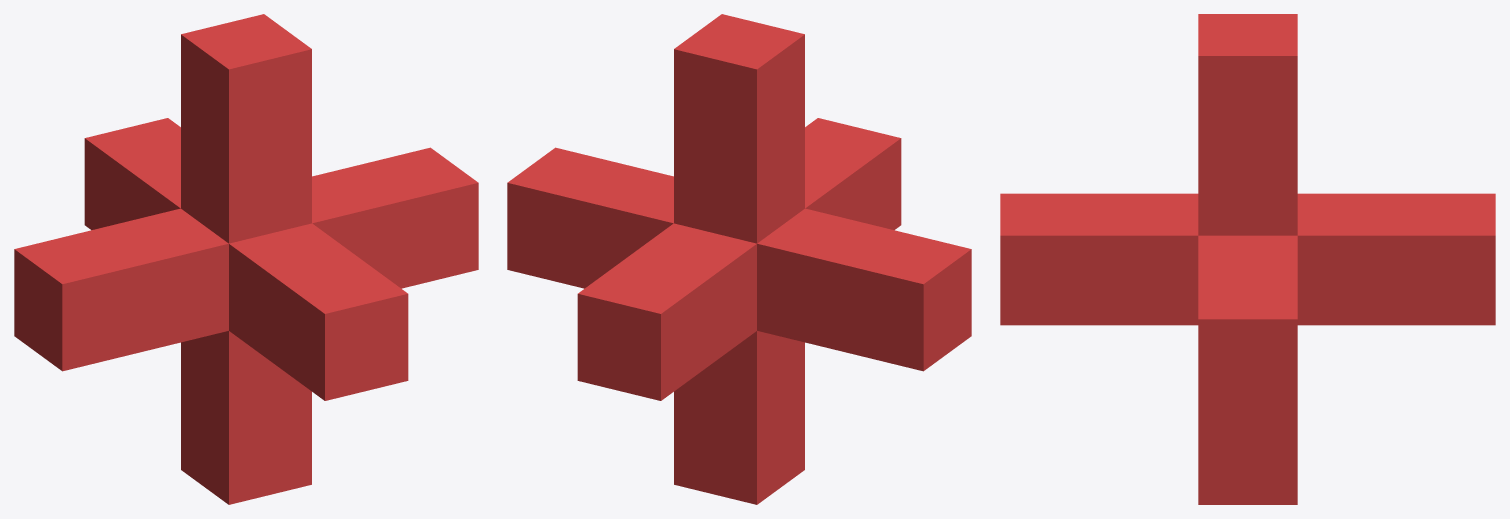
File: DoubledCross001.fbx
The picture shows the model from 3 angles, left to right: view 1: azimuth 30°, elevation 25°; view 2: azimuth 150°, elevation 25°; view 3: azimuth 270°, elevation 25°; orthographic projection. The views are drawn at different scales.
Visible parts, largest first — view 1: pCube1; view 2: pCube1; view 3: pCube1.
Boxes of the visible parts, x1=… form: pCube1: x1=14, y1=14, x2=478, y2=504; pCube1: x1=507, y1=14, x2=971, y2=504; pCube1: x1=1000, y1=14, x2=1495, y2=504.
Bounding box in the file's own units: 40 × 40 × 40.
